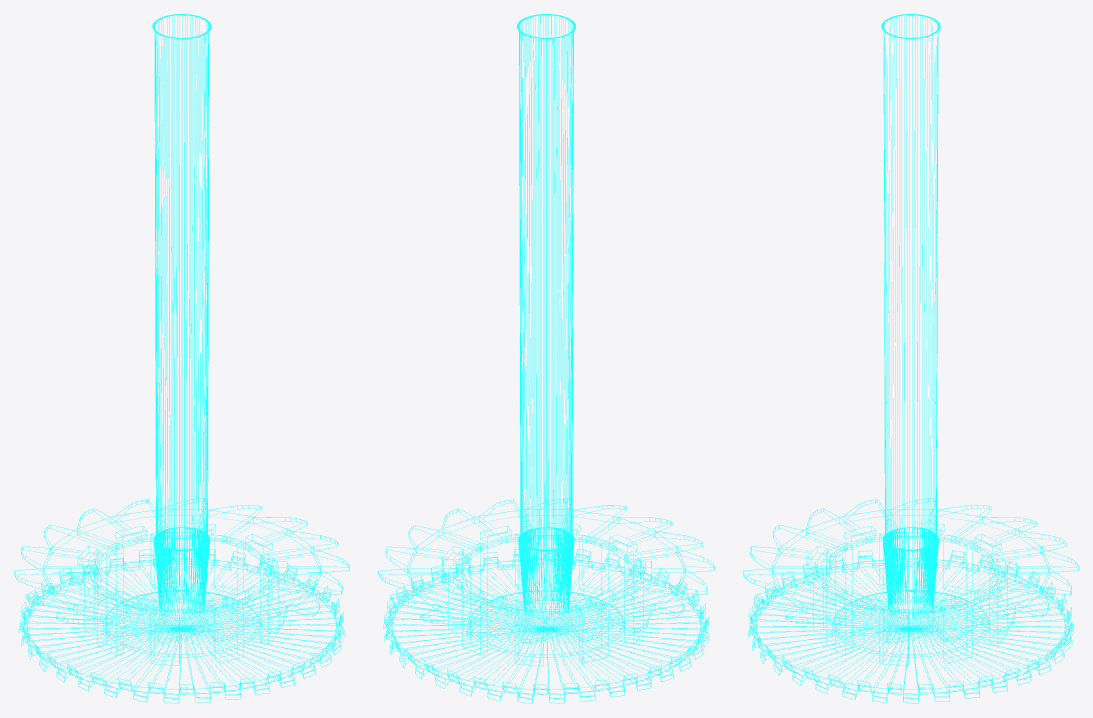
File: Paint_mixer.glb
The picture shows the model from 3 angles, left to right: view 1: azimuth 30°, elevation 25°; view 2: azimuth 150°, elevation 25°; view 3: azimuth 270°, elevation 25°; orthographic projection.
Visible parts, largest first — view 1: Cylinder.001; view 2: Cylinder.001; view 3: Cylinder.001.
Part boxes in pixels (x1,y1,x2,y2): Cylinder.001: [14, 14, 349, 703]; Cylinder.001: [378, 14, 714, 703]; Cylinder.001: [743, 14, 1078, 703].
Bounding box in the file's own units: 4.85 × 9.79 × 4.9.
